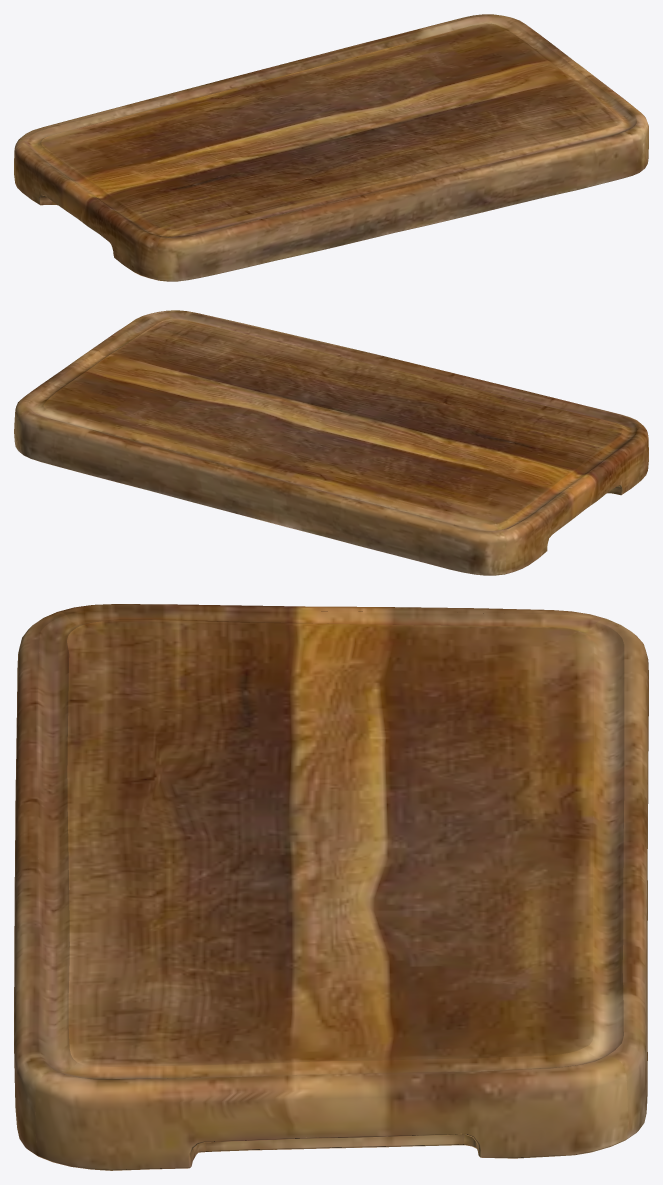
Rendered from cutting-board-balanced-91452a793b.glb.
3 renders of one model, top to bottom at view 1: azimuth 30°, elevation 25°; view 2: azimuth 150°, elevation 25°; view 3: azimuth 270°, elevation 25°, orthographic. The views are drawn at different scales.
Visible parts, largest first — view 1: wooden_cutting_board; view 2: wooden_cutting_board; view 3: wooden_cutting_board.
Boxes of the visible parts, left/top/right/bottom form: wooden_cutting_board: left=14, top=14, right=648, bottom=281; wooden_cutting_board: left=14, top=310, right=648, bottom=575; wooden_cutting_board: left=14, top=604, right=648, bottom=1170.
Bounding box in the file's own units: 0.4499 × 0.0413 × 0.2467.
1 material, 1 textured.
